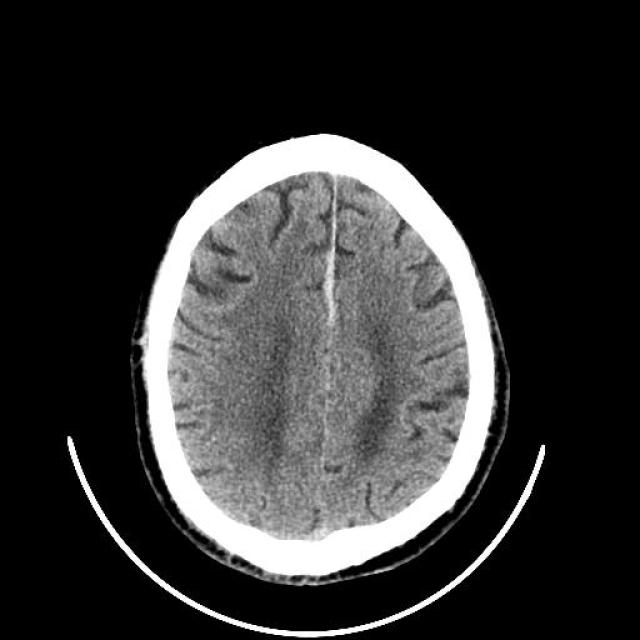Subdural: (296, 161, 356, 331)
